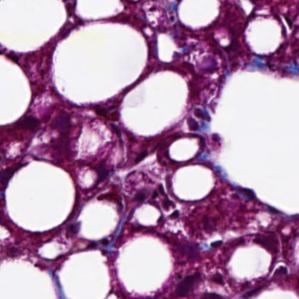inflammation: (144, 183, 183, 221), (179, 103, 215, 135)
